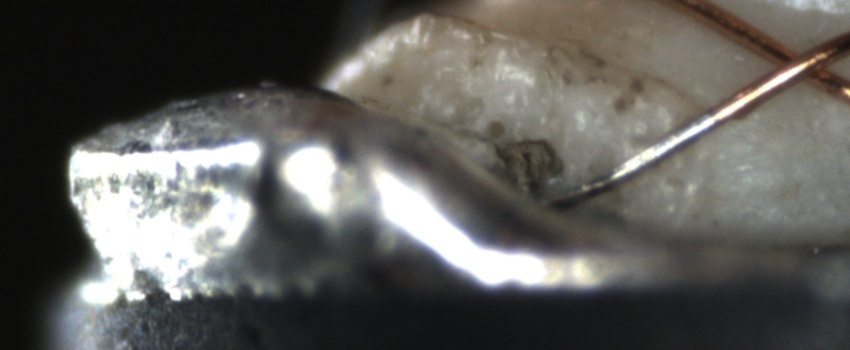CL: (755, 30, 842, 94)
TS: (541, 111, 720, 205)
